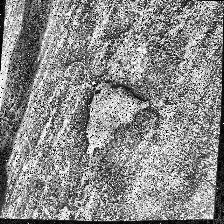pothole: (81, 74, 153, 162)
